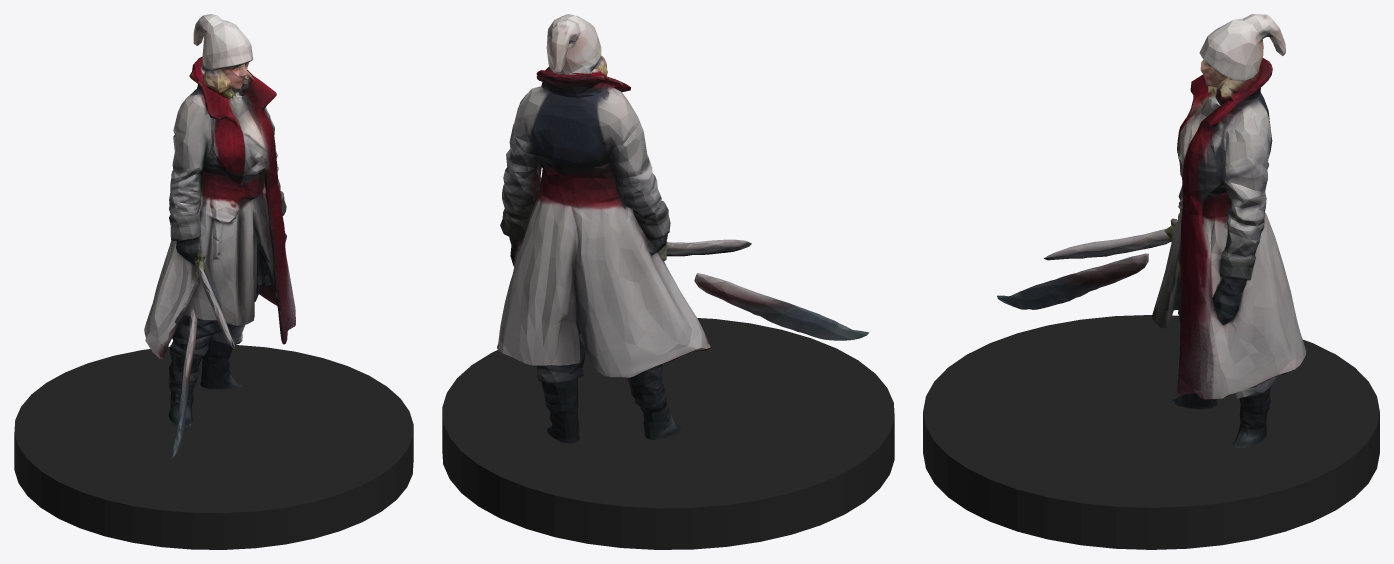
Rendered from jenny-clark.glb.
3 views of the same model, side by side, from view 1: azimuth 30°, elevation 25°; view 2: azimuth 150°, elevation 25°; view 3: azimuth 270°, elevation 25° (orthographic). The views are drawn at different scales.
Visible parts, largest first — view 1: base, figure; view 2: base, figure; view 3: base, figure.
Boxes of the visible parts, x1,y1,x2,y2 form: base: [14, 345, 413, 549]; figure: [144, 14, 295, 458]; base: [442, 318, 894, 549]; figure: [497, 14, 868, 443]; base: [923, 315, 1379, 549]; figure: [997, 14, 1306, 448].
Bounding box in the file's own units: 1.18 × 1.32 × 1.18.
2 materials, 1 textured.
